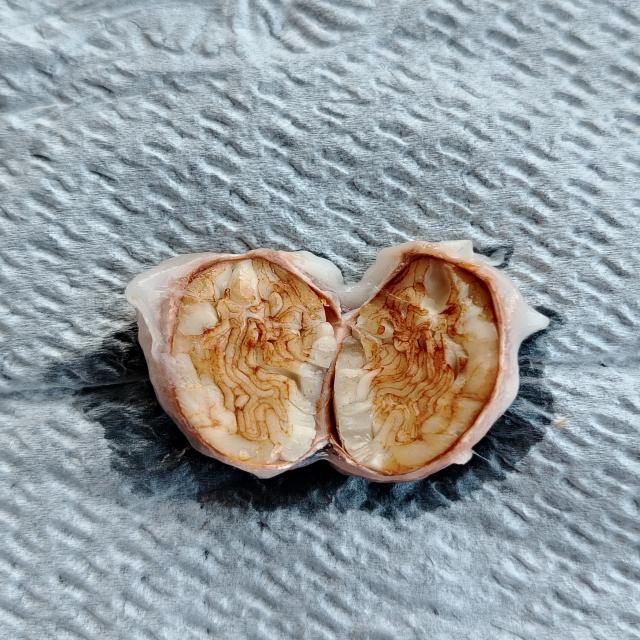Criollo: (340, 253, 503, 477), (179, 252, 341, 472)
